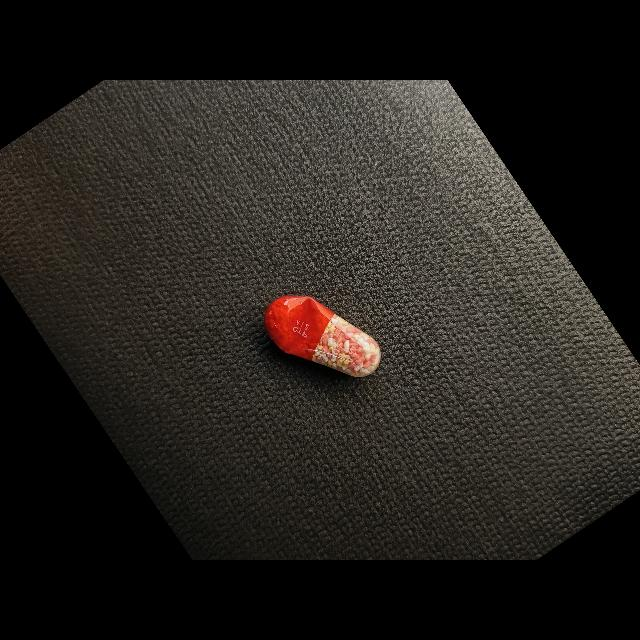Defective Capsule: (264, 295, 381, 377)
